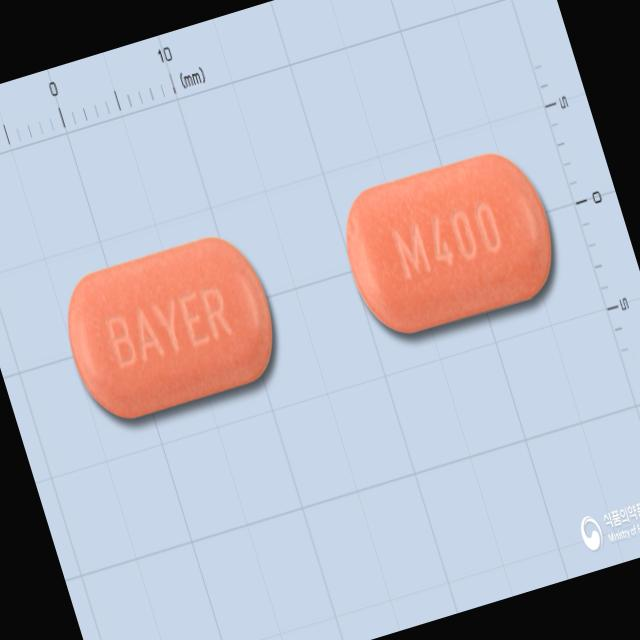Avelox: (45, 218, 295, 440)
